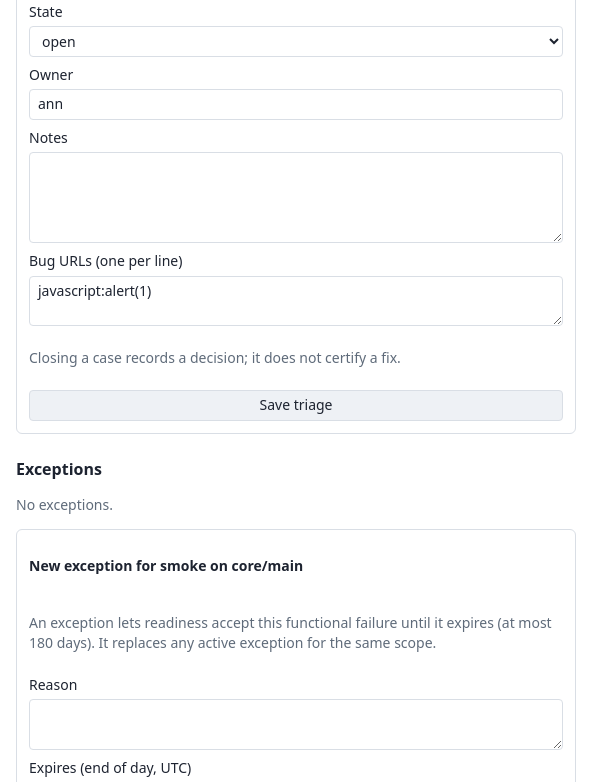
it: signature page › sends CSRF and If-Match with a triage edit and explains a 412 conflict
(page scrolled)
Click the button "Save triage" at [296, 406], box [29,390,563,421]
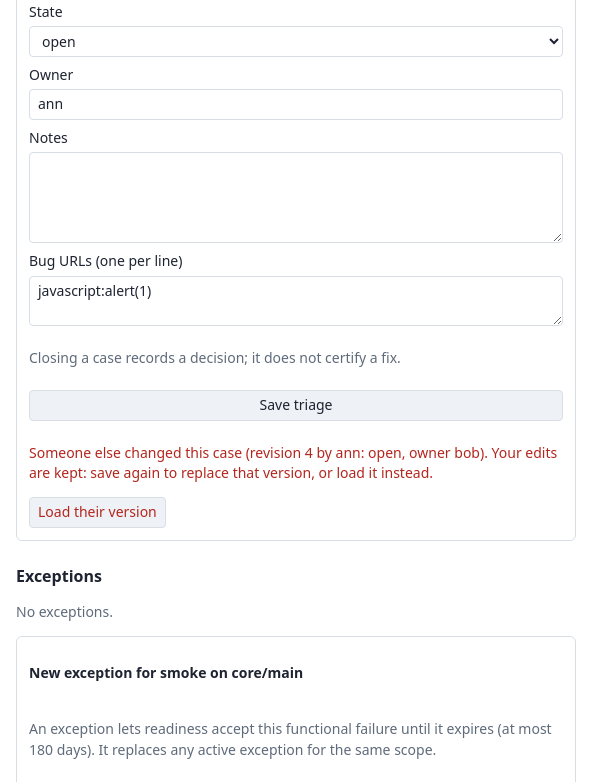
Result: the message shows "Someone else changed" at [29,443,242,462]
